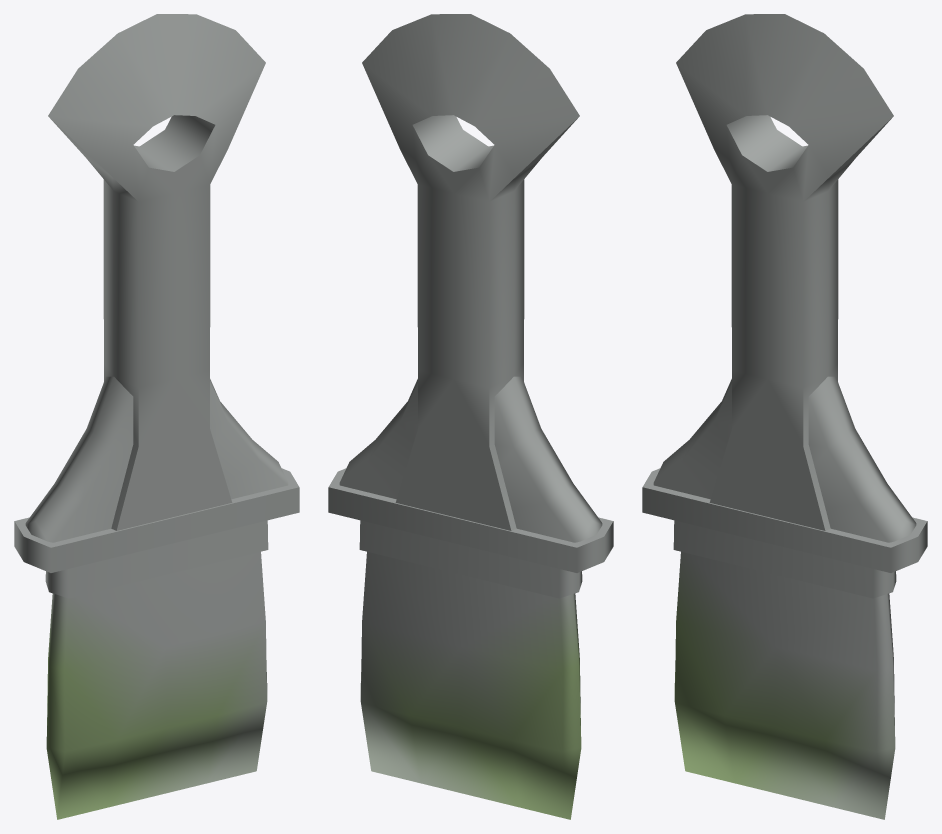
3 renders of one model, left to right at view 1: azimuth 30°, elevation 25°; view 2: azimuth 150°, elevation 25°; view 3: azimuth 330°, elevation 25°, orthographic.
Parts seen in each view (by area): view 1: G:\FFXIV-MapTools\exports\n4f1\bg\ex3\01_nvt_n4\fld\n4f1\bgp; view 2: G:\FFXIV-MapTools\exports\n4f1\bg\ex3\01_nvt_n4\fld\n4f1\bgp; view 3: G:\FFXIV-MapTools\exports\n4f1\bg\ex3\01_nvt_n4\fld\n4f1\bgp.
Boxes of the visible parts, x1,y1,x2,y2 form: G:\FFXIV-MapTools\exports\n4f1\bg\ex3\01_nvt_n4\fld\n4f1\bgp: (14,14,299,819); G:\FFXIV-MapTools\exports\n4f1\bg\ex3\01_nvt_n4\fld\n4f1\bgp: (328,14,613,819); G:\FFXIV-MapTools\exports\n4f1\bg\ex3\01_nvt_n4\fld\n4f1\bgp: (642,14,927,819).
Size of the model in its own units: 0.1099 by 0.308 by 0.0261.
